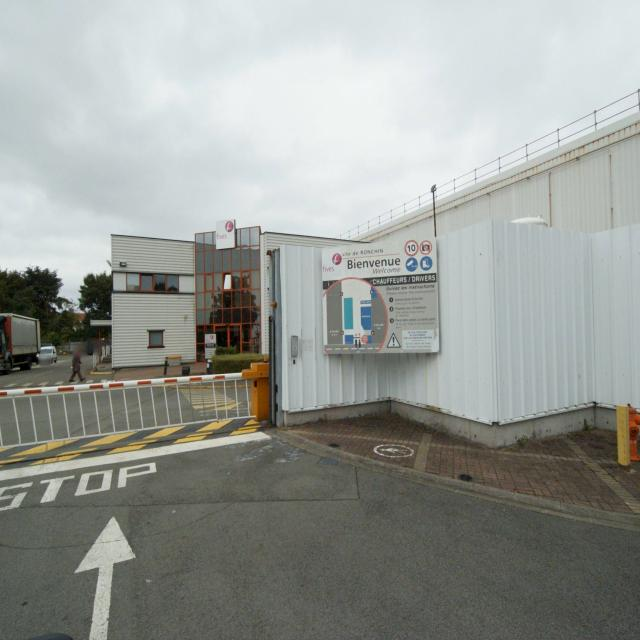car: (38, 342, 58, 363)
